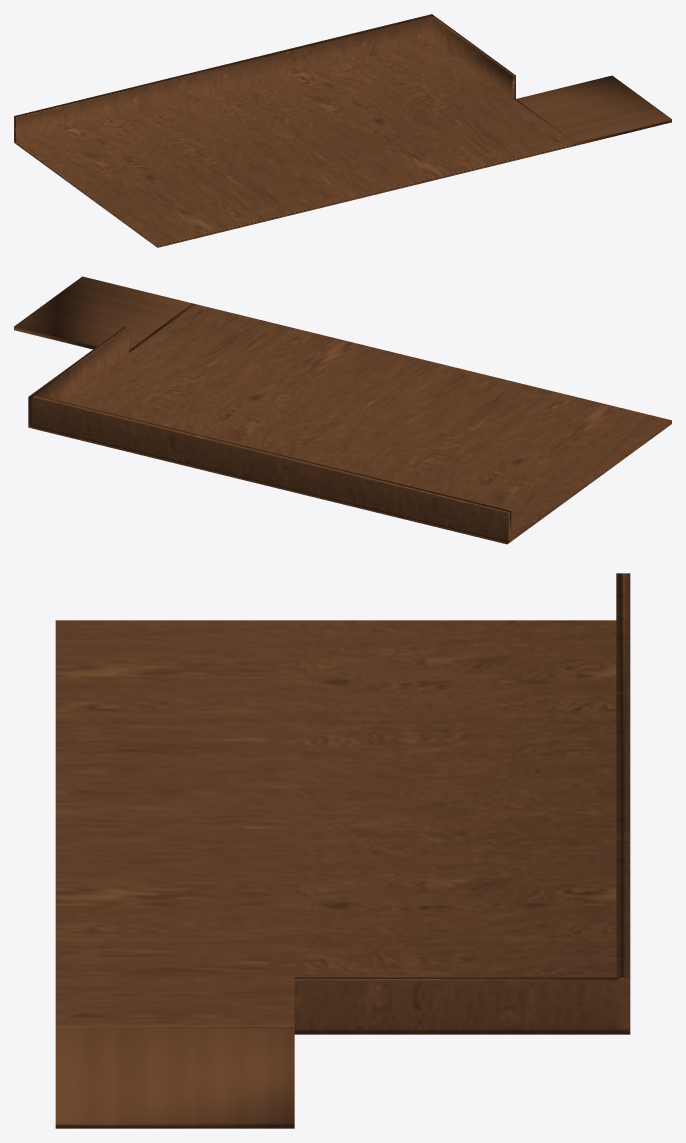
The model's file is TrenLau.fbx.
The picture shows the model from 3 angles, top to bottom: view 1: azimuth 30°, elevation 25°; view 2: azimuth 150°, elevation 25°; view 3: azimuth 270°, elevation 25°; orthographic projection. The views are drawn at different scales.
Parts seen in each view (by area): view 1: TrenLau.001; view 2: TrenLau.001; view 3: TrenLau.001.
Part boxes in pixels (x1,y1,x2,y2): TrenLau.001: (14,14,671,247); TrenLau.001: (14,276,671,544); TrenLau.001: (55,573,630,1128).
Bounding box in the file's own units: 1159 × 57.45 × 560.
1 material, 1 textured.
